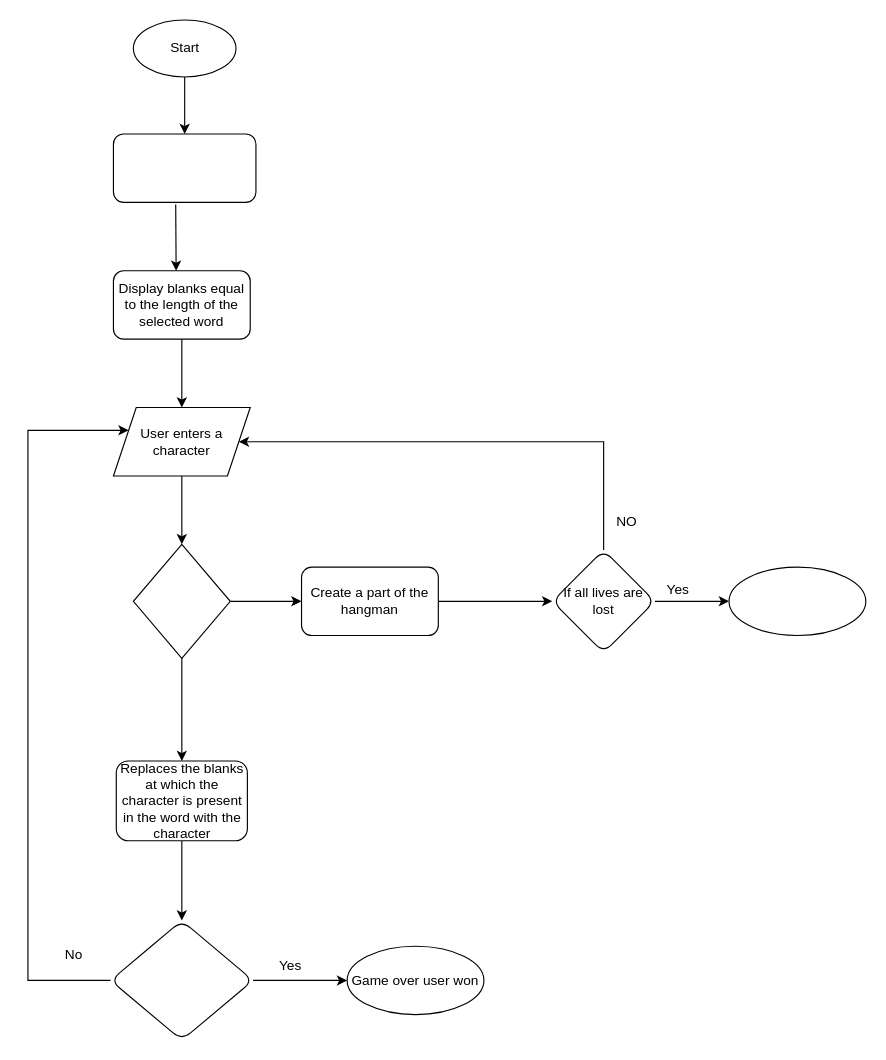
Image size: 886x1060. Some labels were removed from this diagram. The shapes that lost their labels are listed below. From the top down, each one's box as (x1, y1, x2, y2) in pixels, then its label:
(112, 133, 256, 202): Select a random word from a list of words
(132, 543, 230, 658): check if character is in the word
(728, 566, 866, 636): game over user lost
(109, 919, 253, 1040): If the word is complete/ all blanks are replaced
